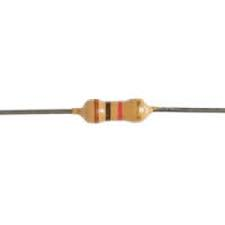resistor: (74, 88, 165, 139)
